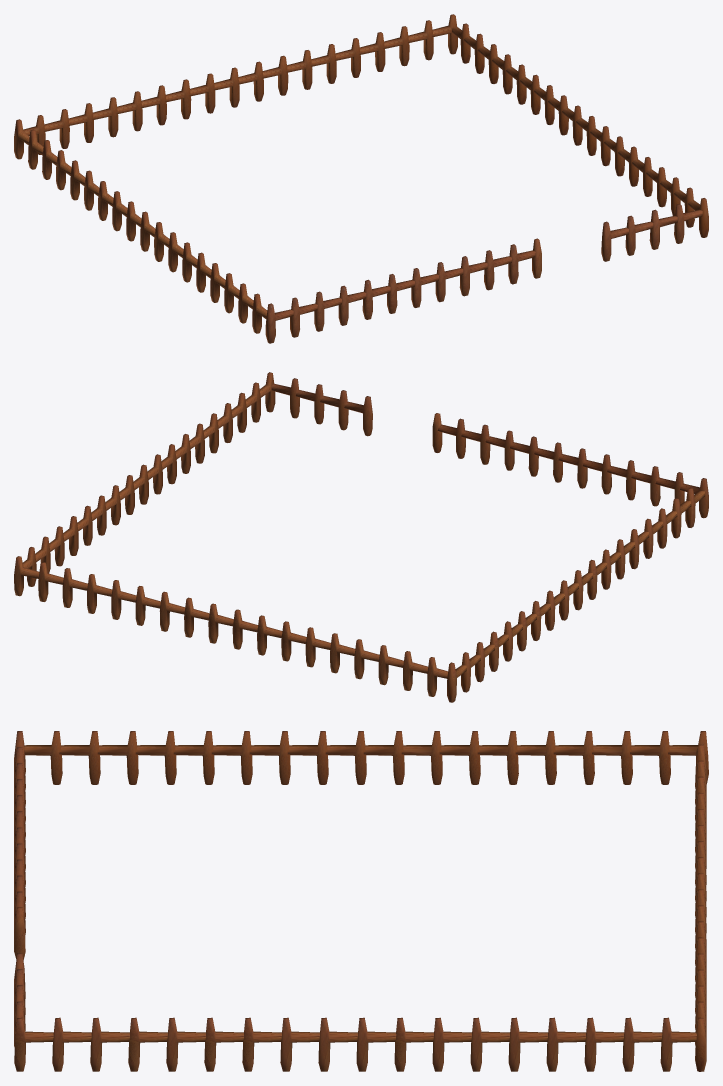
The model's file is outside_fence.glb.
3 renders of one model, top to bottom at view 1: azimuth 30°, elevation 25°; view 2: azimuth 150°, elevation 25°; view 3: azimuth 270°, elevation 25°, orthographic. The views are drawn at different scales.
Parts seen in each view (by area): view 1: Outside_fence; view 2: Outside_fence; view 3: Outside_fence.
Part boxes in pixels (x1,y1,x2,y2): Outside_fence: (14,14,708,343); Outside_fence: (14,372,708,702); Outside_fence: (14,731,708,1071).
Size of what is drawn, in the model's own units: 31.42 by 2.59 by 31.62.
Materials: 1 (1 with a texture image).
